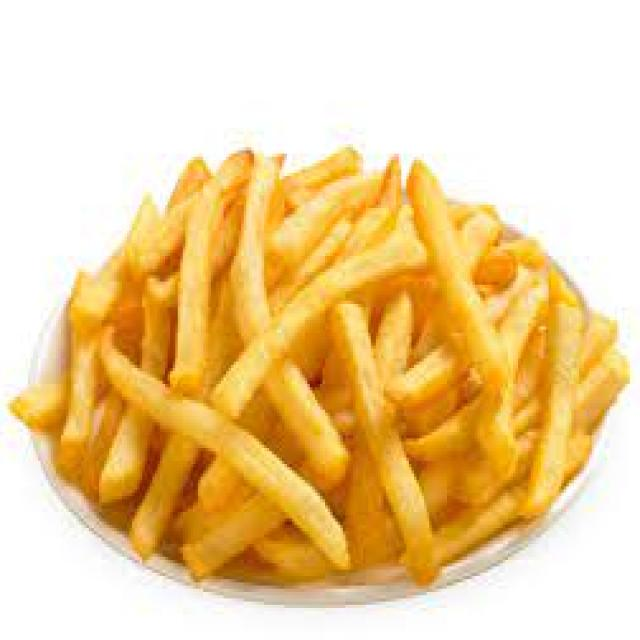감자튀김: (15, 150, 627, 608)
